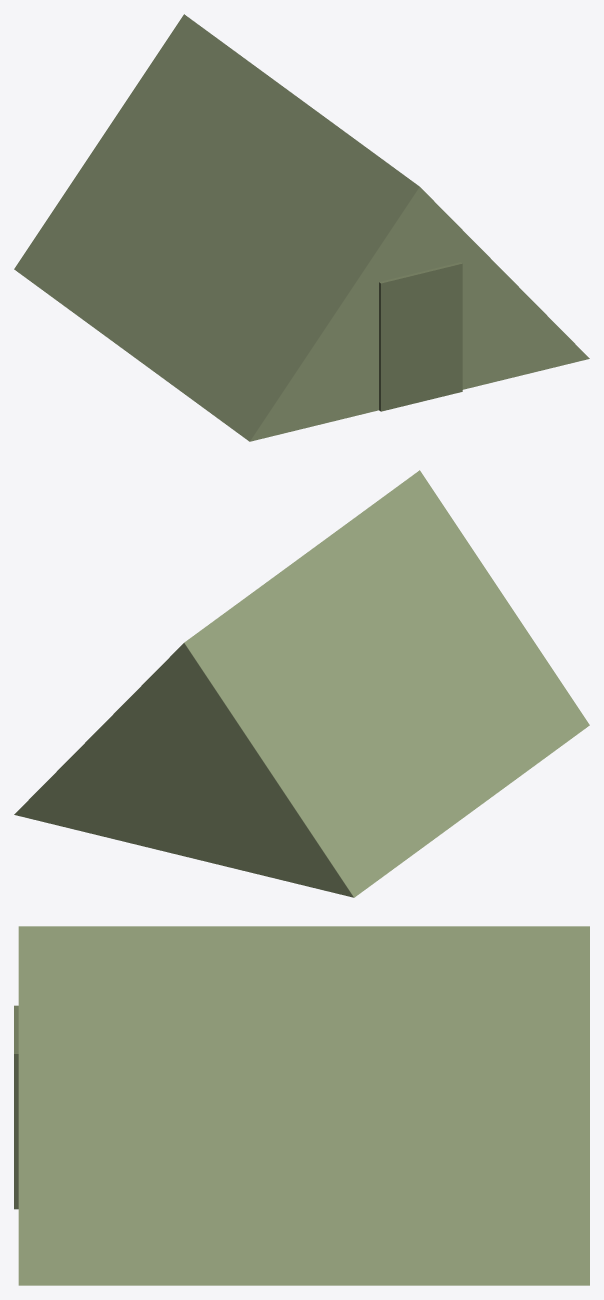
File: tent.glb
3 renders of one model, top to bottom at view 1: azimuth 30°, elevation 25°; view 2: azimuth 150°, elevation 25°; view 3: azimuth 270°, elevation 25°, orthographic. The views are drawn at different scales.
Parts seen in each view (by area): view 1: tent; view 2: tent; view 3: tent.
Part boxes in pixels (x1,y1,x2,y2): tent: (14, 14, 589, 441); tent: (14, 470, 589, 897); tent: (14, 926, 589, 1285).
Bounding box in the file's own units: 5 × 3 × 6.05.
